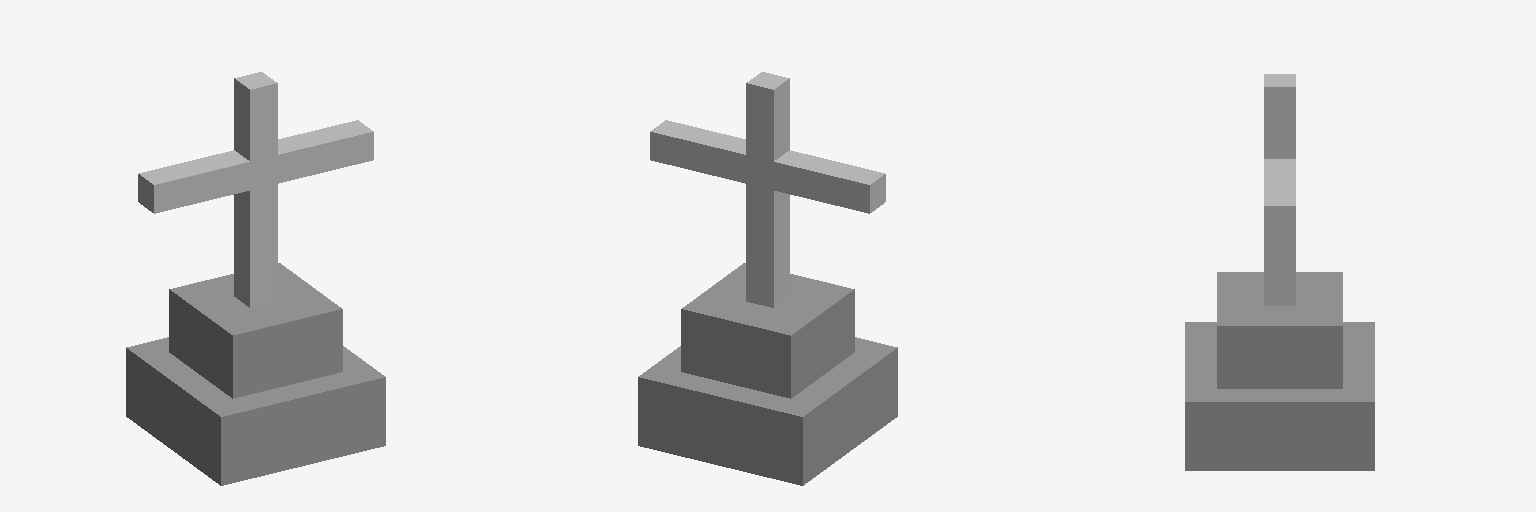
File: gravepurgedselectedrelative.obj
3 renders of one model, left to right at view 1: azimuth 30°, elevation 25°; view 2: azimuth 150°, elevation 25°; view 3: azimuth 270°, elevation 25°, orthographic.
Bounding box in the file's own units: 1 × 1.52 × 0.75.